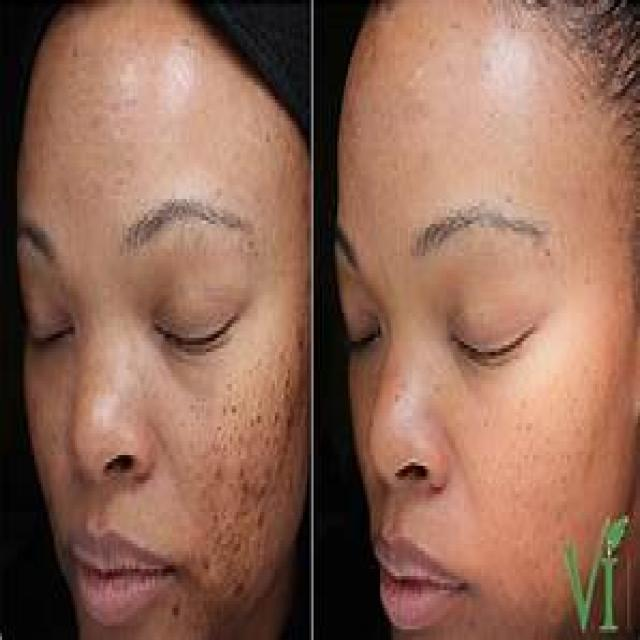pigmentation: (216, 399, 299, 585)
